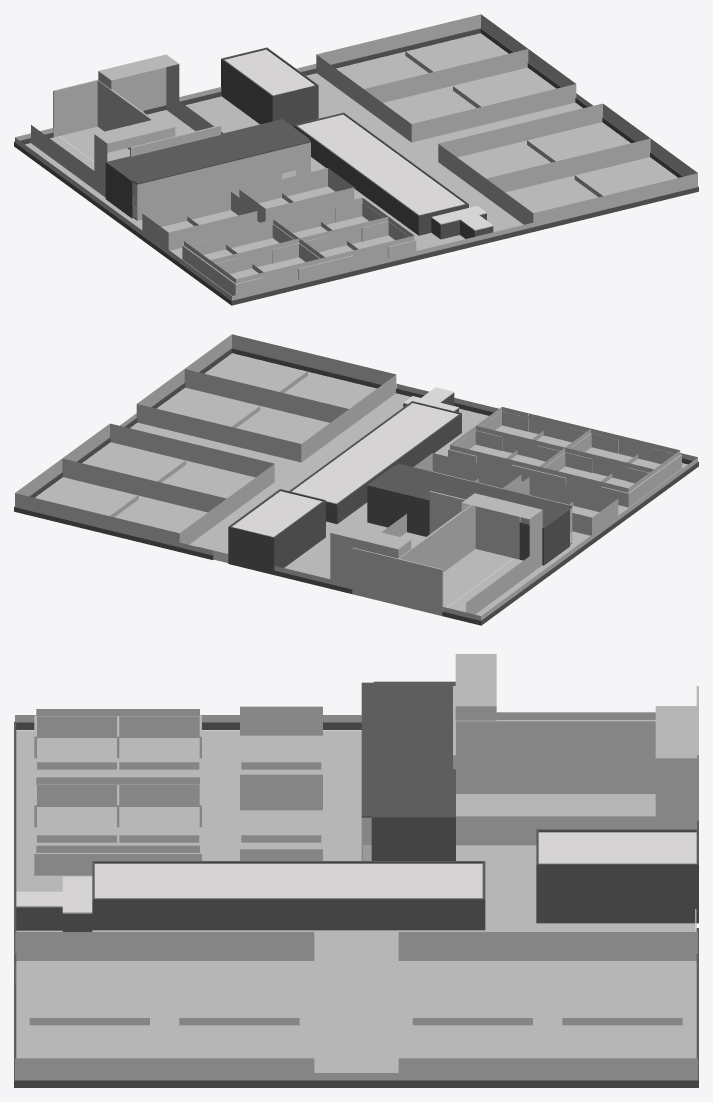
File: RAQUETAS.FBX
The picture shows the model from 3 angles, top to bottom: view 1: azimuth 30°, elevation 25°; view 2: azimuth 150°, elevation 25°; view 3: azimuth 270°, elevation 25°; orthographic projection. The views are drawn at different scales.
Parts seen in each view (by area): view 1: VALLA, GRIS MATE, VERDE FRONTON, PAVIMENTO, BLANCO MATE, NARANJA RUIDO, CANCHA DE TENIS, VENTANAL GRIS, REJA, CANCHA DE PADEL, RED; view 2: VALLA, GRIS MATE, VERDE FRONTON, NARANJA RUIDO, PAVIMENTO, BLANCO MATE, CANCHA DE TENIS, REJA, CANCHA DE PADEL, RED; view 3: VALLA, GRIS MATE, PAVIMENTO, NARANJA RUIDO, VERDE FRONTON, CANCHA DE TENIS, BLANCO MATE, CANCHA DE PADEL, RED, REJA.
Boxes of the visible parts, left/top/right/bottom form: VALLA: left=31, top=14, right=697, bottom=288; GRIS MATE: left=14, top=28, right=698, bottom=305; VERDE FRONTON: left=34, top=73, right=416, bottom=295; PAVIMENTO: left=25, top=73, right=601, bottom=295; BLANCO MATE: left=59, top=49, right=493, bottom=230; NARANJA RUIDO: left=336, top=33, right=677, bottom=212; CANCHA DE TENIS: left=356, top=46, right=648, bottom=210; VENTANAL GRIS: left=133, top=142, right=310, bottom=220; REJA: left=15, top=64, right=592, bottom=300; CANCHA DE PADEL: left=161, top=186, right=394, bottom=279; RED: left=187, top=51, right=602, bottom=273; VALLA: left=15, top=334, right=680, bottom=614; GRIS MATE: left=14, top=348, right=698, bottom=625; VERDE FRONTON: left=352, top=411, right=681, bottom=615; NARANJA RUIDO: left=35, top=353, right=376, bottom=533; PAVIMENTO: left=111, top=393, right=687, bottom=615; BLANCO MATE: left=198, top=387, right=571, bottom=607; CANCHA DE TENIS: left=64, top=367, right=355, bottom=530; REJA: left=120, top=384, right=697, bottom=620; CANCHA DE PADEL: left=432, top=425, right=660, bottom=517; RED: left=110, top=371, right=638, bottom=517; VALLA: left=15, top=654, right=697, bottom=1080; GRIS MATE: left=14, top=681, right=698, bottom=1087; PAVIMENTO: left=16, top=730, right=696, bottom=1072; NARANJA RUIDO: left=16, top=961, right=696, bottom=1058; VERDE FRONTON: left=34, top=686, right=698, bottom=875; CANCHA DE TENIS: left=46, top=984, right=668, bottom=1058; BLANCO MATE: left=16, top=832, right=696, bottom=931; CANCHA DE PADEL: left=37, top=735, right=322, bottom=849; RED: left=29, top=762, right=682, bottom=1025; REJA: left=15, top=715, right=398, bottom=1080.
Bounding box in the file's own units: 106 × 12.03 × 85.4.
